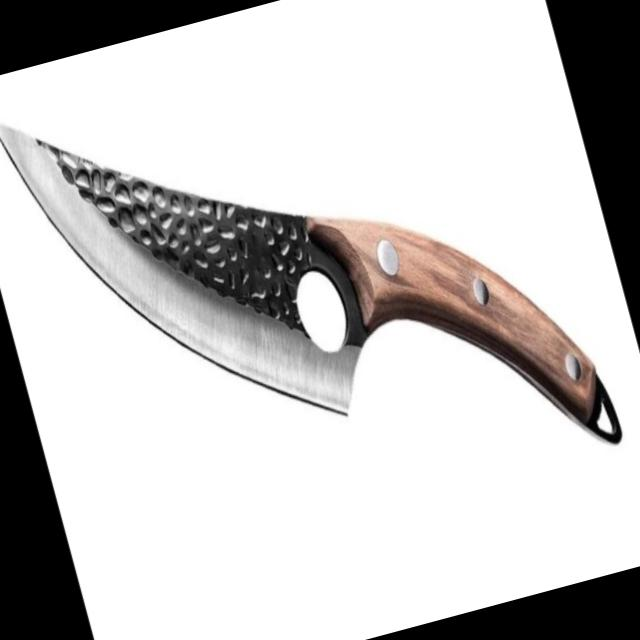Weapon: (0, 0, 636, 599)
